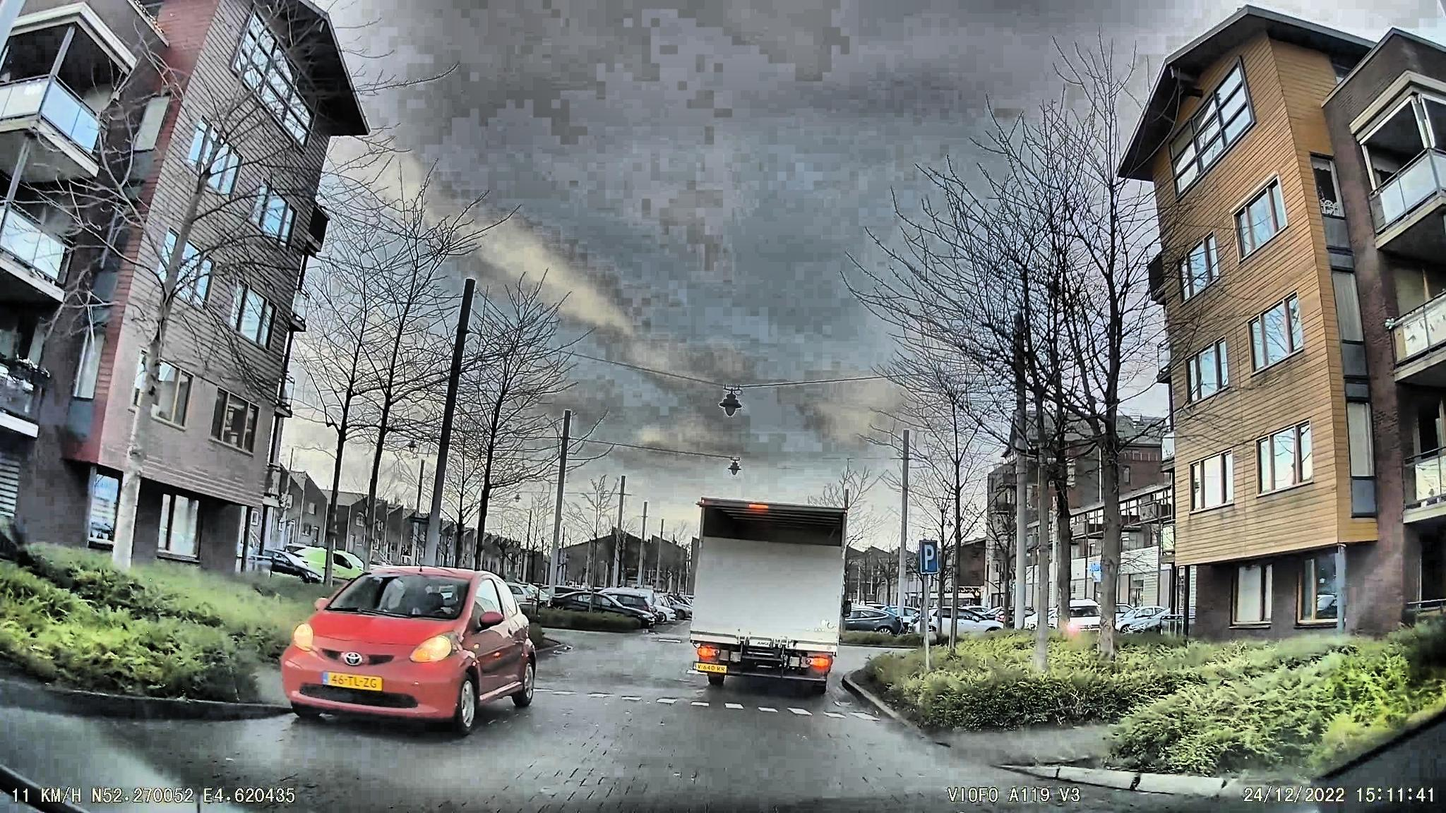Roads: (0, 632, 1446, 813)
